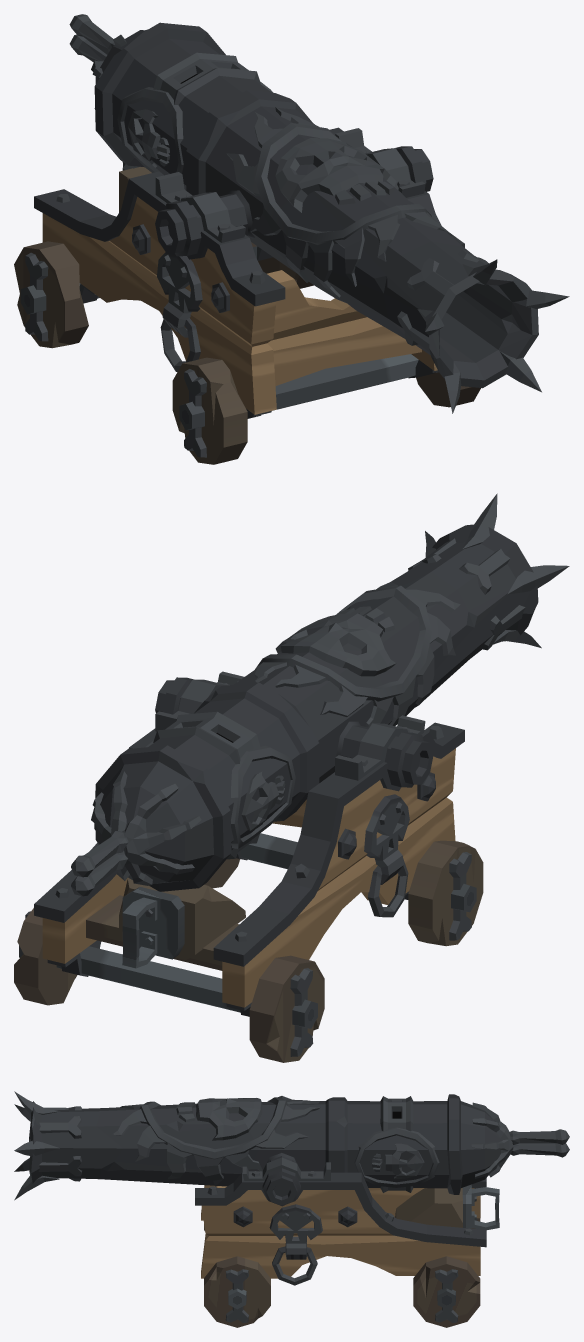
Rendered from SM_Wep_Cannon_01.fbx.
3 views of the same model, one above another, from view 1: azimuth 30°, elevation 25°; view 2: azimuth 150°, elevation 25°; view 3: azimuth 270°, elevation 25° (orthographic). The views are drawn at different scales.
Visible parts, largest first — view 1: SM_Wep_Cannon_01, SM_Wep_Cannon_01_Wheel_F, SM_Wep_Cannon_01_Wheel_R; view 2: SM_Wep_Cannon_01, SM_Wep_Cannon_01_Wheel_R, SM_Wep_Cannon_01_Wheel_F; view 3: SM_Wep_Cannon_01, SM_Wep_Cannon_01_Wheel_R, SM_Wep_Cannon_01_Wheel_F.
Part boxes in pixels (x1,y1,x2,y2): SM_Wep_Cannon_01: (34, 14, 569, 418); SM_Wep_Cannon_01_Wheel_F: (172, 354, 480, 464); SM_Wep_Cannon_01_Wheel_R: (14, 241, 313, 348); SM_Wep_Cannon_01: (34, 493, 569, 1016); SM_Wep_Cannon_01_Wheel_R: (14, 908, 324, 1062); SM_Wep_Cannon_01_Wheel_F: (204, 833, 483, 946); SM_Wep_Cannon_01: (14, 1091, 569, 1285); SM_Wep_Cannon_01_Wheel_R: (413, 1218, 480, 1327); SM_Wep_Cannon_01_Wheel_F: (204, 1224, 270, 1327).
Bounding box in the file's own units: 113 × 112 × 290.
